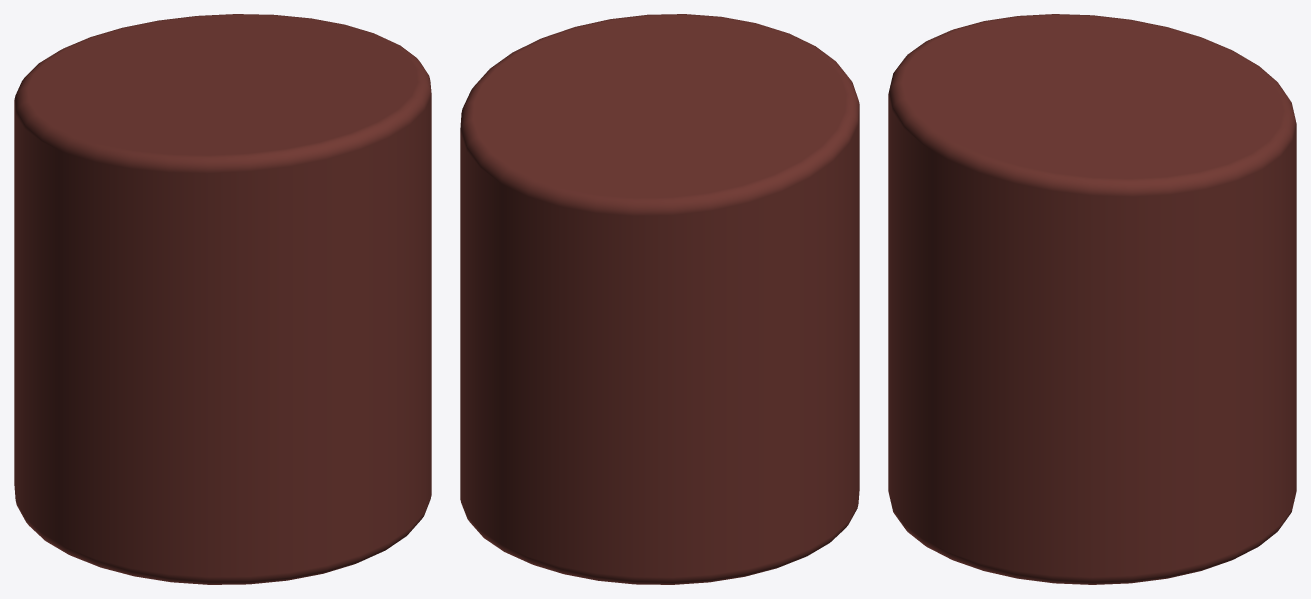
File: candle_02.fbx
3 views of the same model, side by side, from view 1: azimuth 30°, elevation 25°; view 2: azimuth 150°, elevation 25°; view 3: azimuth 270°, elevation 25° (orthographic). The views are drawn at different scales.
Parts seen in each view (by area): view 1: candle_02; view 2: candle_02; view 3: candle_02.
Boxes of the visible parts, x1,y1,x2,y2 form: candle_02: (14,14,431,584); candle_02: (460,14,859,584); candle_02: (888,14,1296,584).
Size of the model in its own units: 42.46 by 48.22 by 42.46.
